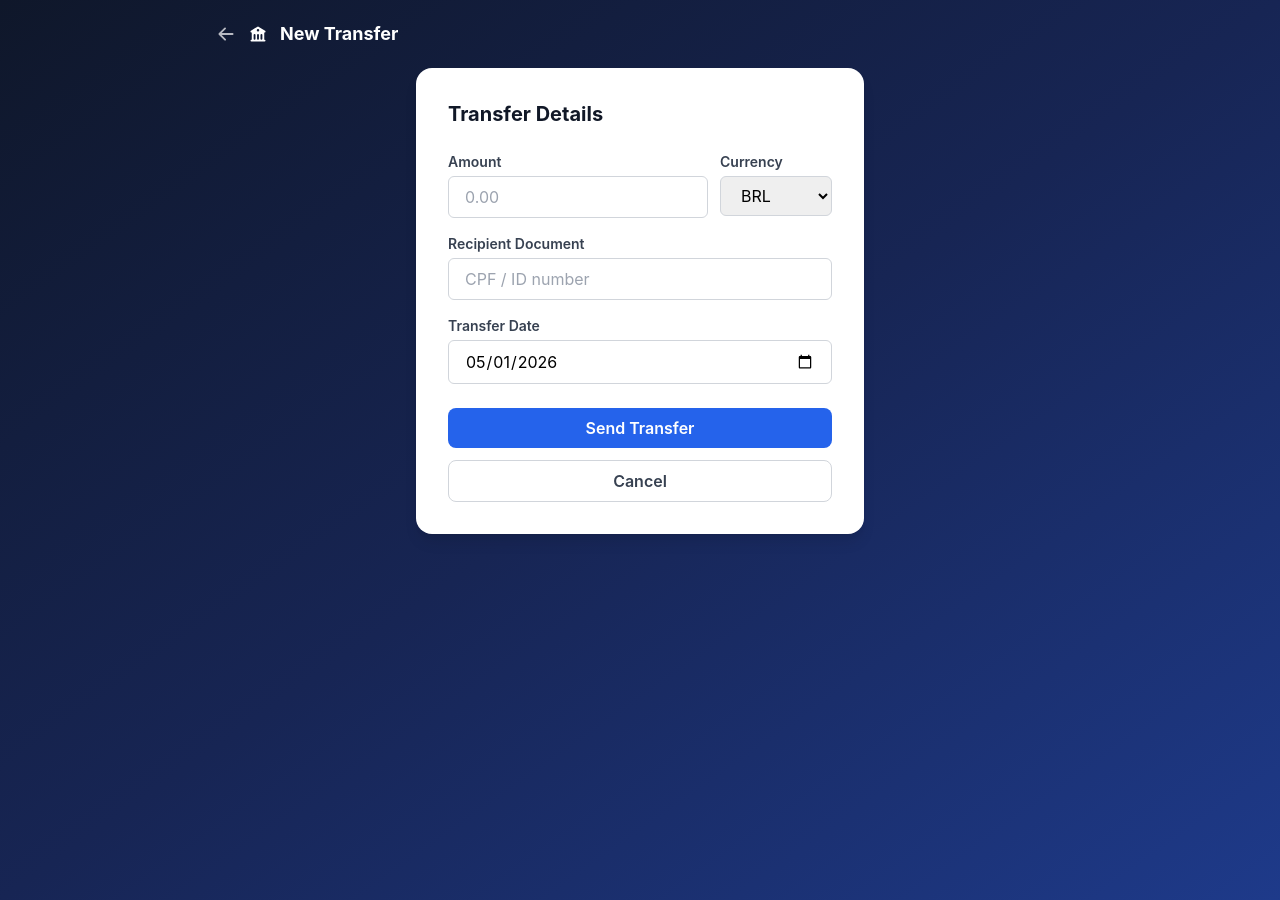
Test: NewTransferPage › shows API error when sendTransfer fails
This screenshot has width=1280, height=900.
Type "150" into the number field labelled "Amount". click: (578,197)
box: x1=448 y1=176 x2=708 y2=218
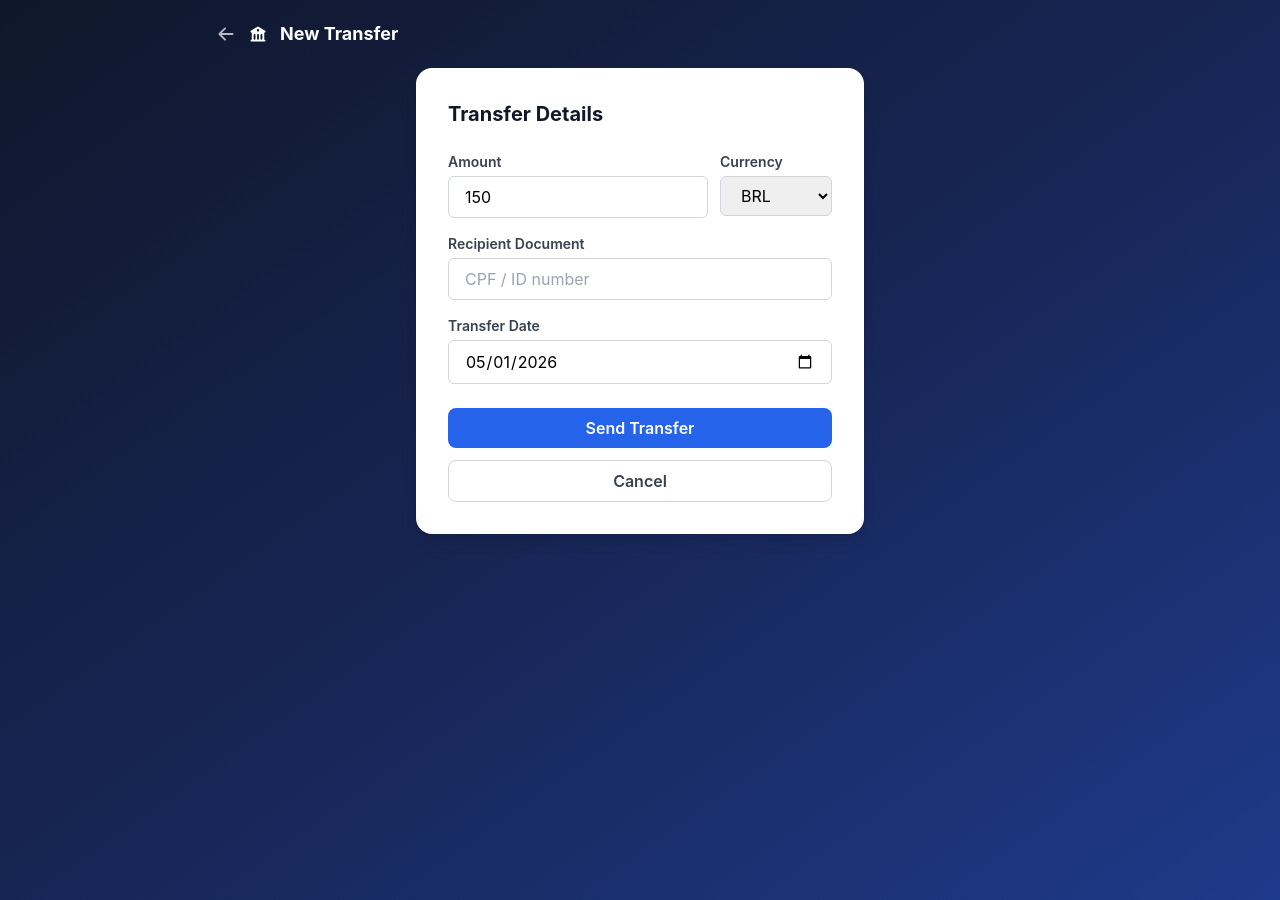
Type "12345678" into the field labelled "Recipient Document". click: (640,279)
box: x1=448 y1=258 x2=832 y2=300
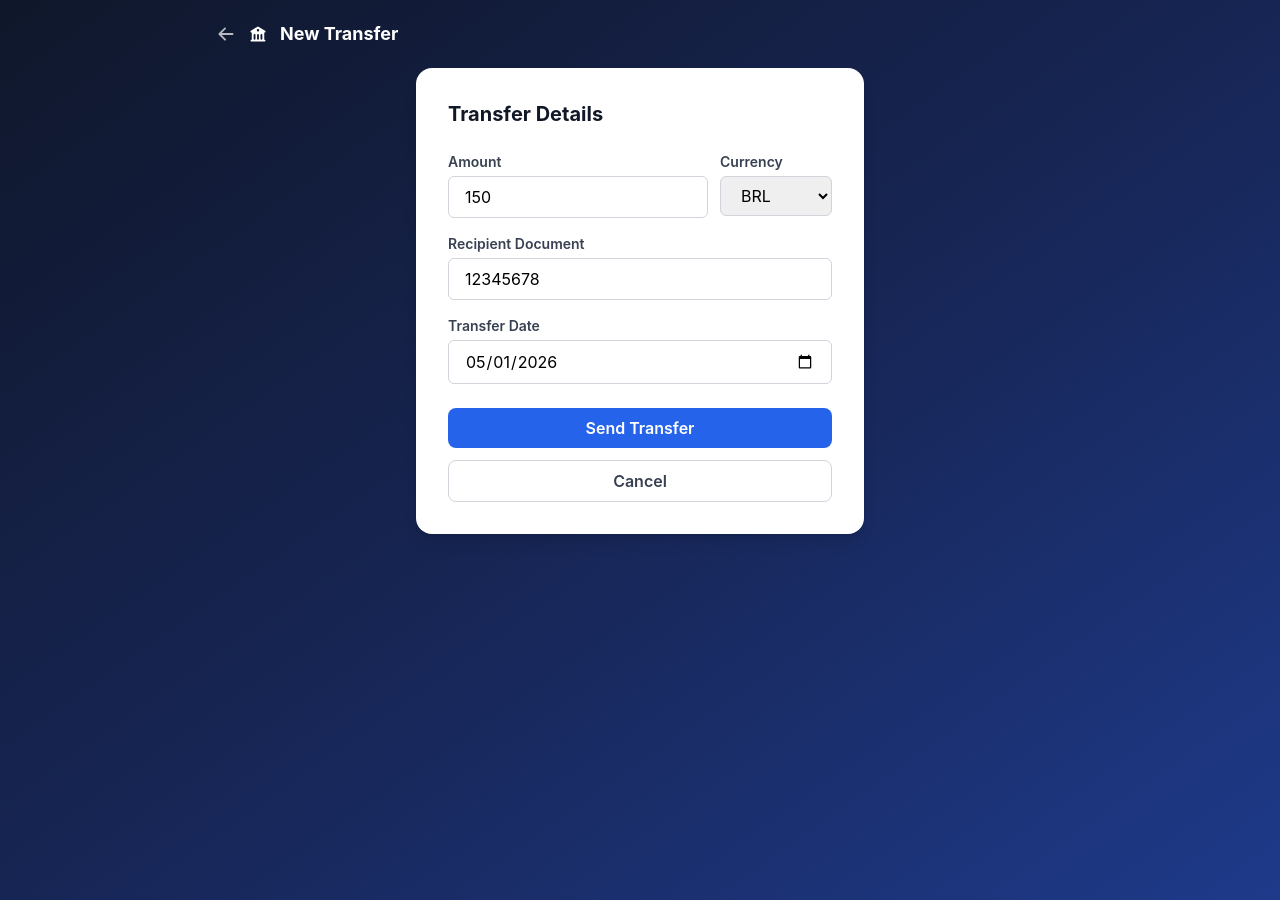
Click the button "Send Transfer". click: (640,428)
box: x1=448 y1=408 x2=832 y2=448
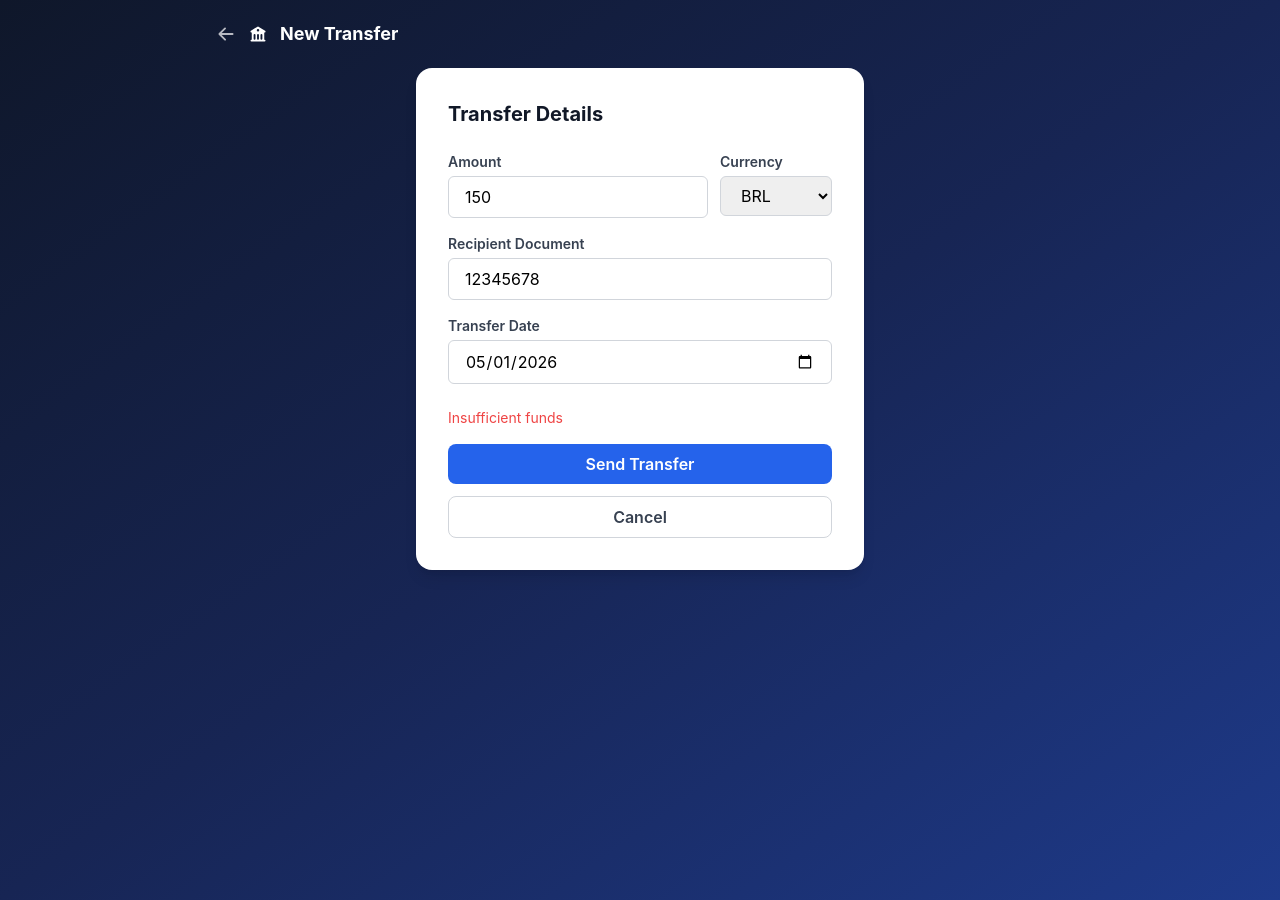
expect the text "Insufficient funds" is shown: met, box x1=448 y1=409 x2=563 y2=426
